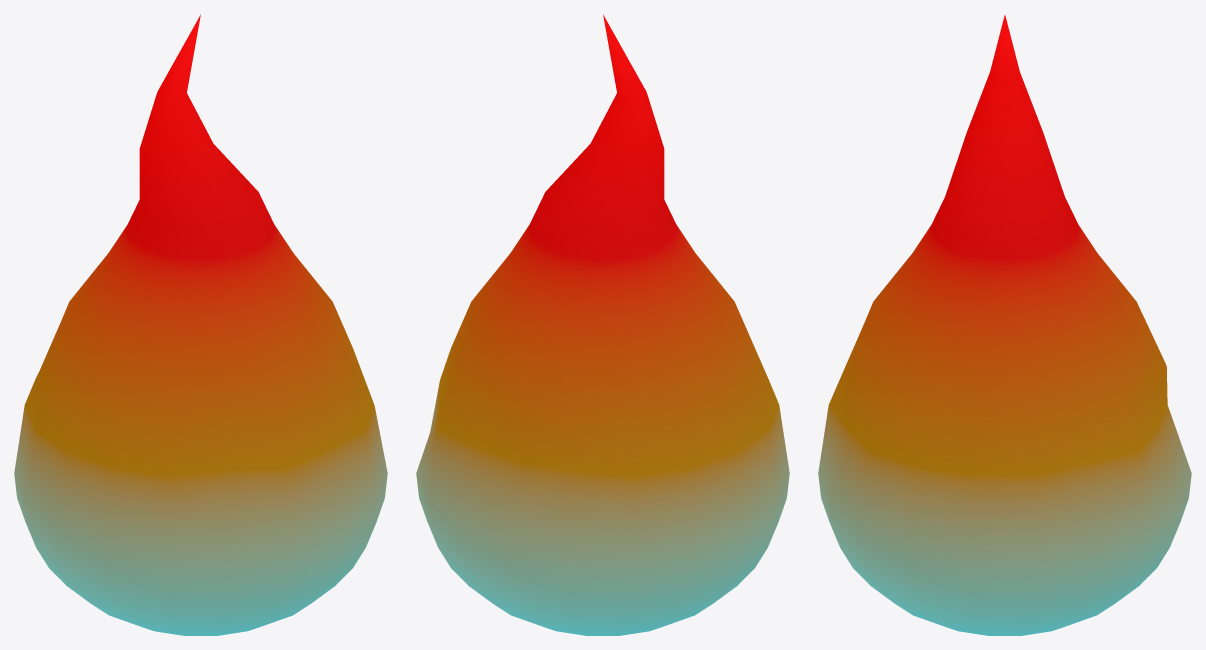
File: obj_feeling_piece_fire.fbx
The picture shows the model from 3 angles, left to right: view 1: azimuth 30°, elevation 25°; view 2: azimuth 150°, elevation 25°; view 3: azimuth 270°, elevation 25°; orthographic projection.
Parts seen in each view (by area): view 1: polySurface13; view 2: polySurface13; view 3: polySurface13.
Boxes of the visible parts, box(x1,y1,x2,y2) form: polySurface13: box(14, 14, 387, 635); polySurface13: box(416, 14, 789, 635); polySurface13: box(818, 15, 1191, 635).
Bounding box in the file's own units: 146 × 263 × 148.
